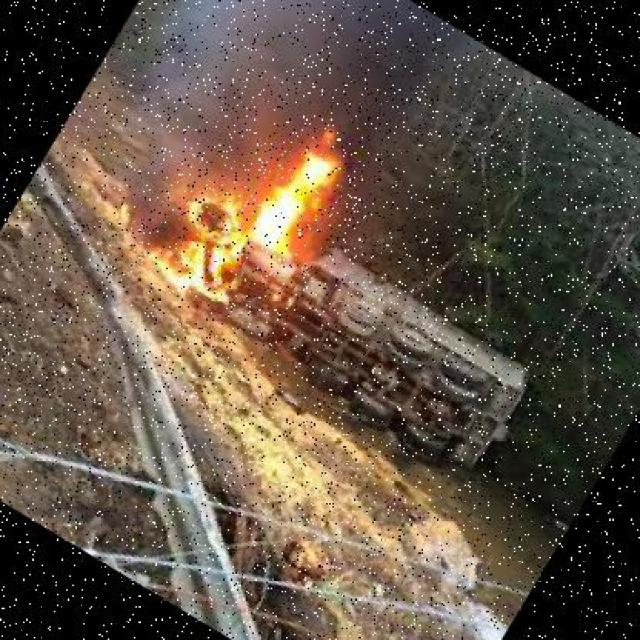fire: (125, 71, 402, 363)
